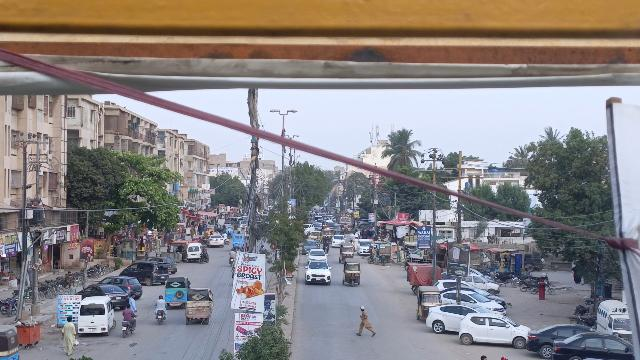Bike: (120, 319, 135, 337), (154, 310, 167, 326)
Car: (456, 313, 530, 346), (551, 331, 635, 360), (527, 321, 595, 354), (439, 288, 507, 316), (425, 302, 480, 332), (78, 284, 128, 307), (304, 260, 333, 286)
Person: (354, 301, 377, 339), (59, 315, 79, 358), (153, 292, 168, 311), (122, 304, 136, 321)
Rickshaw: (185, 285, 214, 327), (415, 285, 440, 320), (164, 276, 189, 309), (340, 257, 362, 287)
Suzuki: (596, 298, 635, 338)
Van: (76, 294, 117, 336), (186, 242, 203, 262)
